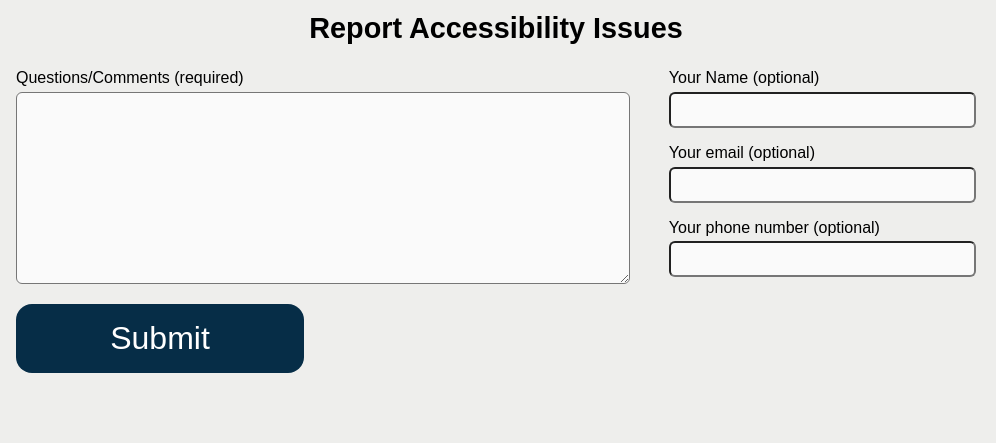
Test case: when the form data is invalid › shows error message for email
Type "non-empty value" into the text box labelled "Questions/Comments (required)".
click(323, 188); type("non-empty value")  # box [16,92,630,284]
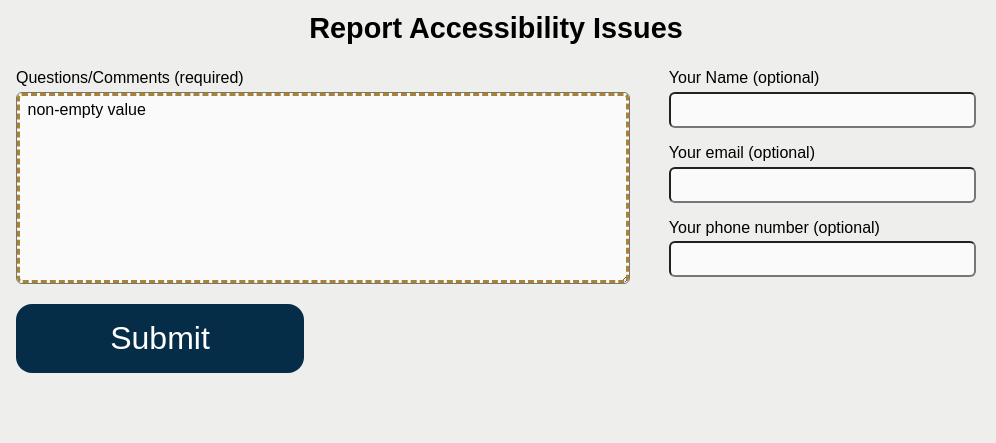
Type "invalid@email" into the field labelled "Your email (optional)".
click(822, 185); type("invalid@email")  # box [669,167,976,203]
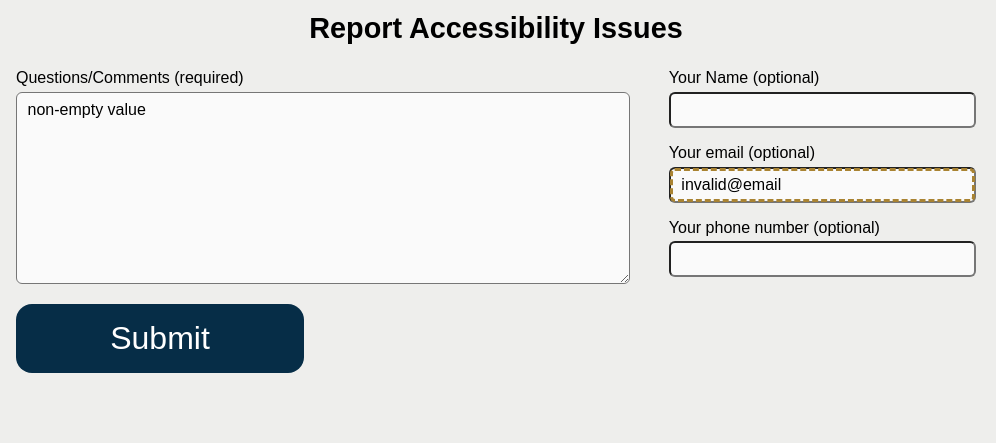
Click the button "Submit".
click(160, 338)  # box [16,304,304,373]
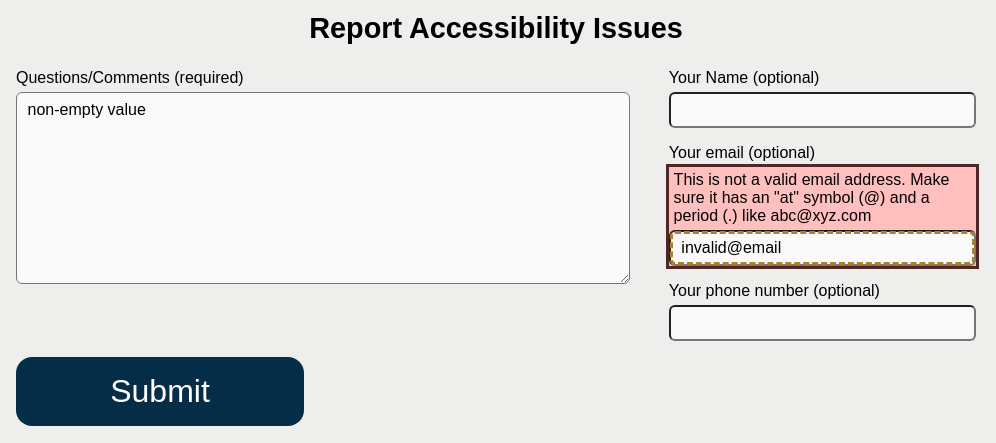
Expected: the text "This is not a valid email address. Make sure it has an \"at\" symbol (@) and a period (.) like abc@xyz.com" is shown, [674,171,949,224]
